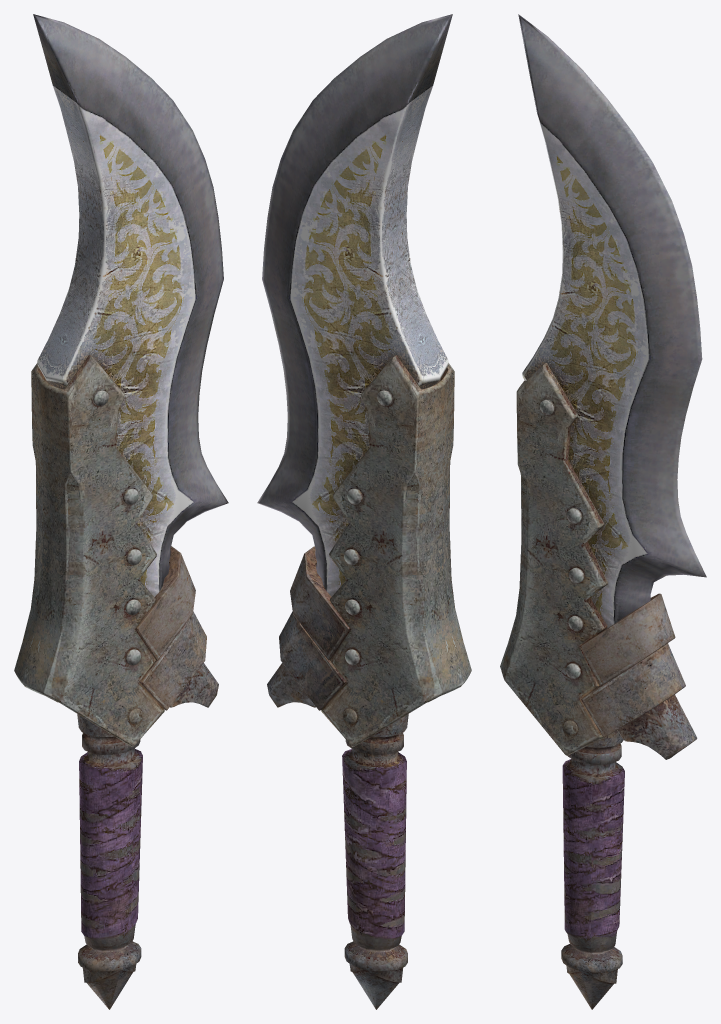
File: bs_one014.obj
The picture shows the model from 3 angles, left to right: view 1: azimuth 30°, elevation 25°; view 2: azimuth 150°, elevation 25°; view 3: azimuth 330°, elevation 25°; orthographic projection. The views are drawn at different scales.
Visible parts, largest first — view 1: bs_one014_000_LOD_1; view 2: bs_one014_000_LOD_1; view 3: bs_one014_000_LOD_1.
Boxes of the visible parts, x1,y1,x2,y2 form: bs_one014_000_LOD_1: (14,14,228,1009); bs_one014_000_LOD_1: (257,14,471,1009); bs_one014_000_LOD_1: (500,14,706,1009).
Bounding box in the file's own units: 23.52 × 111 × 10.45.
